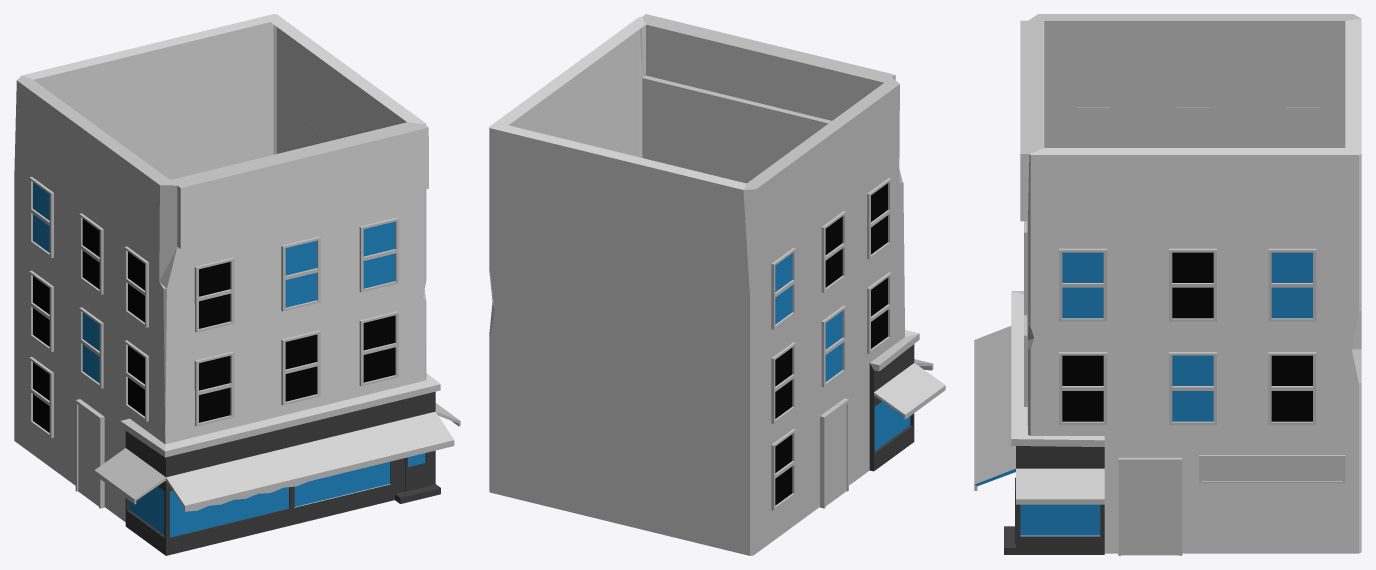
File: edif_28.fbx
3 renders of one model, left to right at view 1: azimuth 30°, elevation 25°; view 2: azimuth 150°, elevation 25°; view 3: azimuth 270°, elevation 25°, orthographic. The views are drawn at different scales.
Visible parts, largest first — view 1: Cube.001; view 2: Cube.001; view 3: Cube.001.
Boxes of the visible parts, <box> form: Cube.001: <box>14,14,460,555</box>; Cube.001: <box>489,14,945,555</box>; Cube.001: <box>974,14,1361,555</box>.
Size of the model in its own units: 13.1 by 13.93 by 12.26.
